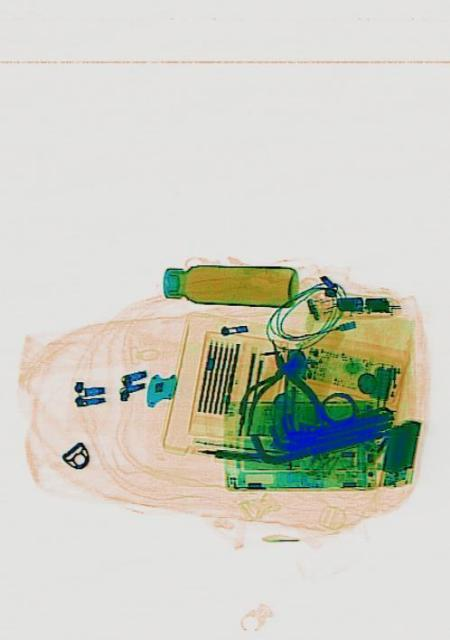Pliers: (243, 334, 322, 442)
